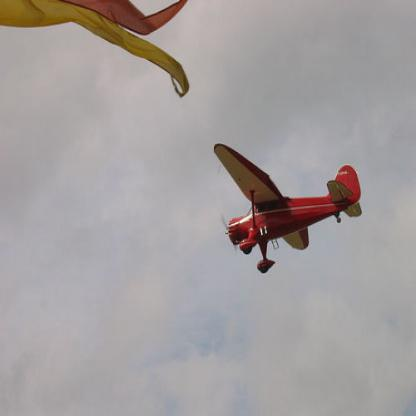aeroplane: (211, 140, 362, 272)
